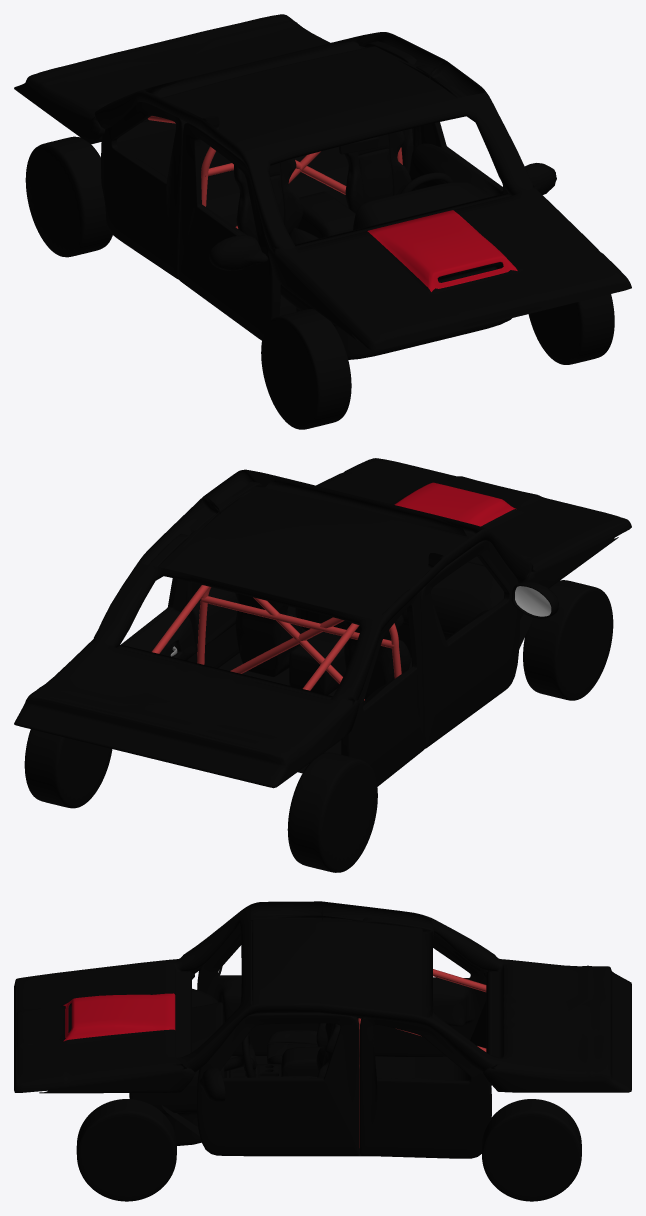
File: Car Interior.fbx
3 views of the same model, one above another, from view 1: azimuth 30°, elevation 25°; view 2: azimuth 150°, elevation 25°; view 3: azimuth 270°, elevation 25° (orthographic). The views are drawn at different scales.
Parts seen in each view (by area): view 1: Cube.011, Cube.012, Cube.006, Cube.010, Cylinder.003, Cylinder.005, Cube.007, Cube.008, Cylinder.002, Cube.001, Cube.009, Cube.005 (+5 smaller); view 2: Cube.011, Cube.012, Cube.006, Cylinder.005, Cylinder.003, Cube.010, BézierCurve, Cylinder.004, Cube.008, Cube.013, Cube.009, Cube.001 (+4 smaller); view 3: Cube.011, Cube.009, Cube.012, Cube.013, Cylinder.002, Cylinder.004, Cube.010, Cube.006, Cube.008, Cube.007, Cube.004, Cube.005 (+4 smaller).
Part boxes in pixels (x1,y1,x2,y2): Cube.011: (14, 14, 631, 351); Cube.012: (161, 46, 460, 150); Cube.006: (178, 122, 280, 340); Cube.010: (101, 102, 186, 279); Cylinder.003: (261, 309, 351, 429); Cylinder.005: (25, 136, 112, 257); Cube.007: (117, 120, 348, 315); Cube.008: (280, 182, 511, 359); Cylinder.002: (528, 294, 614, 364); Cube.001: (344, 131, 411, 213); Cube.009: (409, 64, 508, 196); Cube.005: (234, 158, 318, 244); Cube.011: (14, 458, 631, 788); Cube.012: (158, 486, 468, 618); Cube.006: (419, 540, 520, 748); Cylinder.005: (287, 752, 377, 872); Cylinder.003: (523, 580, 613, 700); Cube.010: (341, 589, 424, 786); BézierCurve: (152, 585, 401, 700); Cylinder.004: (24, 729, 112, 808); Cube.008: (295, 562, 523, 656); Cube.013: (120, 533, 196, 660); Cube.009: (188, 481, 262, 668); Cube.001: (235, 593, 304, 676); Cube.011: (14, 901, 631, 1093); Cube.009: (197, 1012, 359, 1155); Cube.012: (252, 918, 422, 1018); Cube.013: (360, 1017, 491, 1158); Cylinder.002: (76, 1099, 176, 1201); Cylinder.004: (482, 1099, 581, 1201); Cube.010: (363, 917, 487, 1056); Cube.006: (197, 915, 358, 1055); Cube.008: (129, 988, 226, 1145); Cube.007: (162, 1000, 491, 1156); Cube.004: (229, 1046, 323, 1077); Cube.005: (267, 1023, 327, 1063).
Bounding box in the file's own units: 669 × 407 × 1213.
